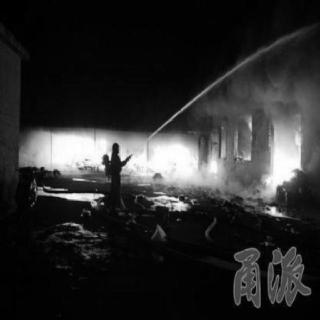Fire: (118, 141, 198, 177)
other: (145, 188, 199, 216)
